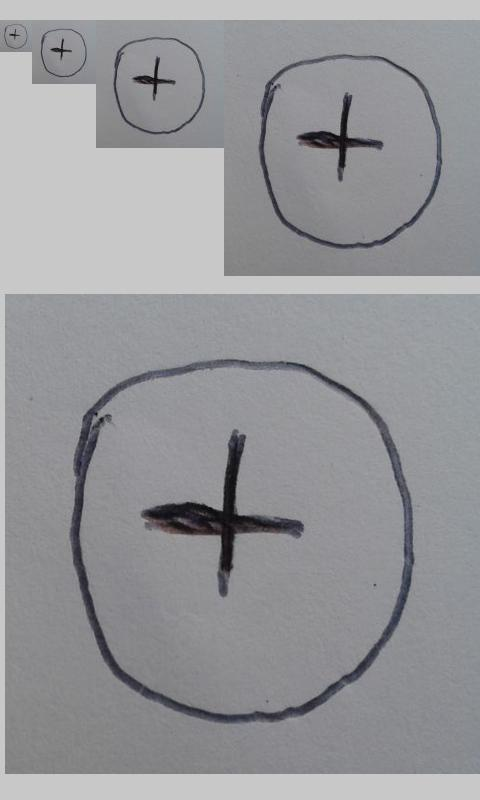button: (65, 356, 419, 724), (258, 54, 443, 249), (113, 36, 206, 135), (40, 28, 87, 78), (3, 23, 28, 49)
